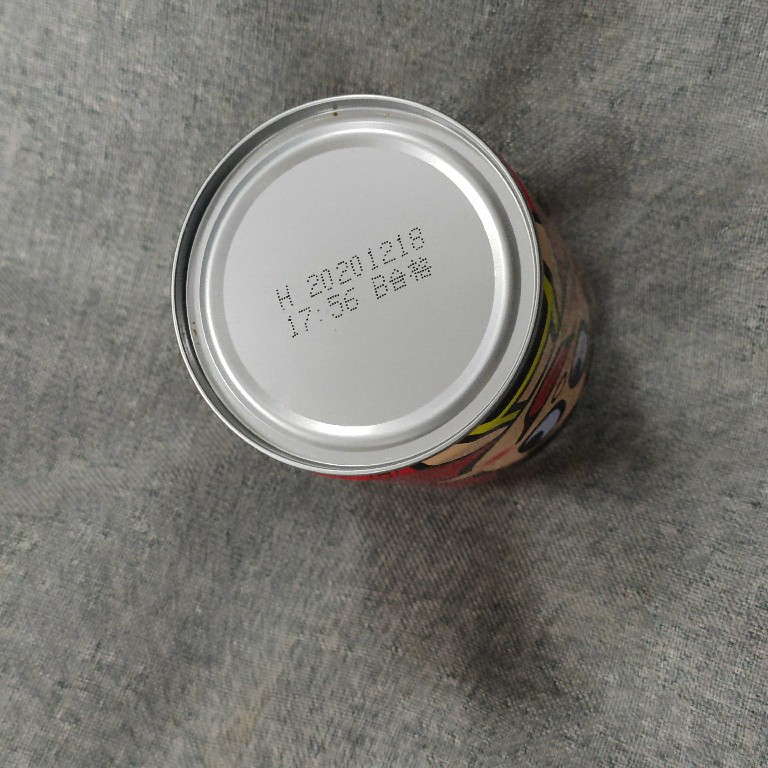can: (163, 87, 599, 496)
